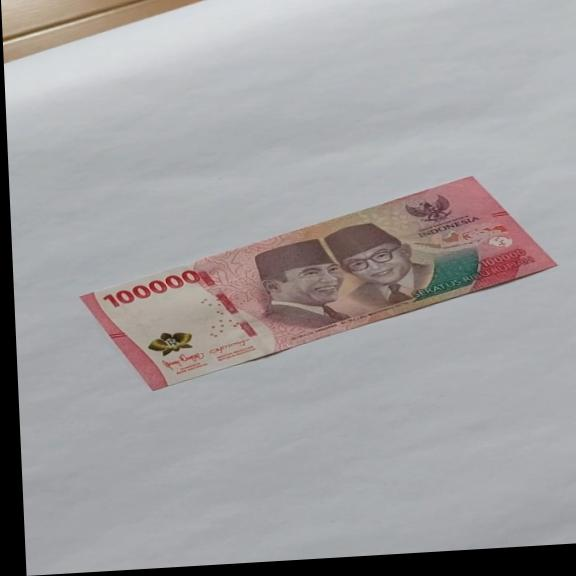Kertas: (75, 170, 563, 396), (100, 269, 203, 309)
